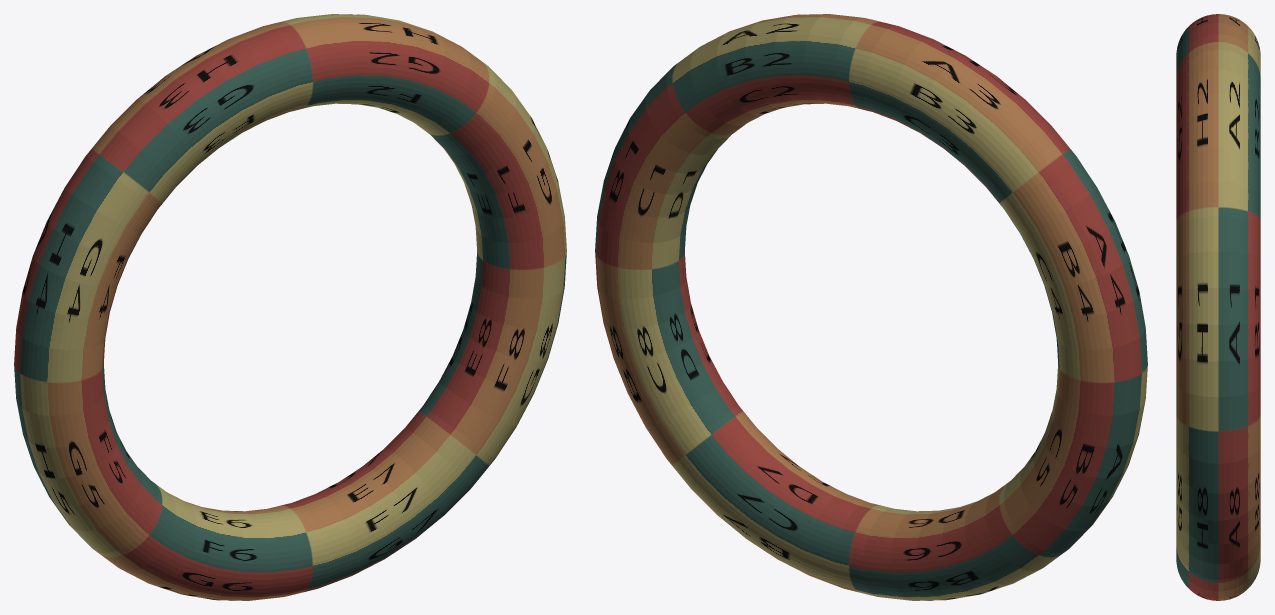
Rendered from texture_torus_R10_r3.glb.
The picture shows the model from 3 angles, left to right: view 1: azimuth 30°, elevation 25°; view 2: azimuth 150°, elevation 25°; view 3: azimuth 270°, elevation 25°; orthographic projection. The views are drawn at different scales.
Parts seen in each view (by area): view 1: world; view 2: world; view 3: world.
Part boxes in pixels (left/top/right/bottom): world: left=14, top=14, right=566, bottom=600; world: left=595, top=14, right=1147, bottom=600; world: left=1176, top=14, right=1260, bottom=600.
Size of the model in its own units: 19.47 by 19.43 by 2.79.
1 material, 1 textured.
